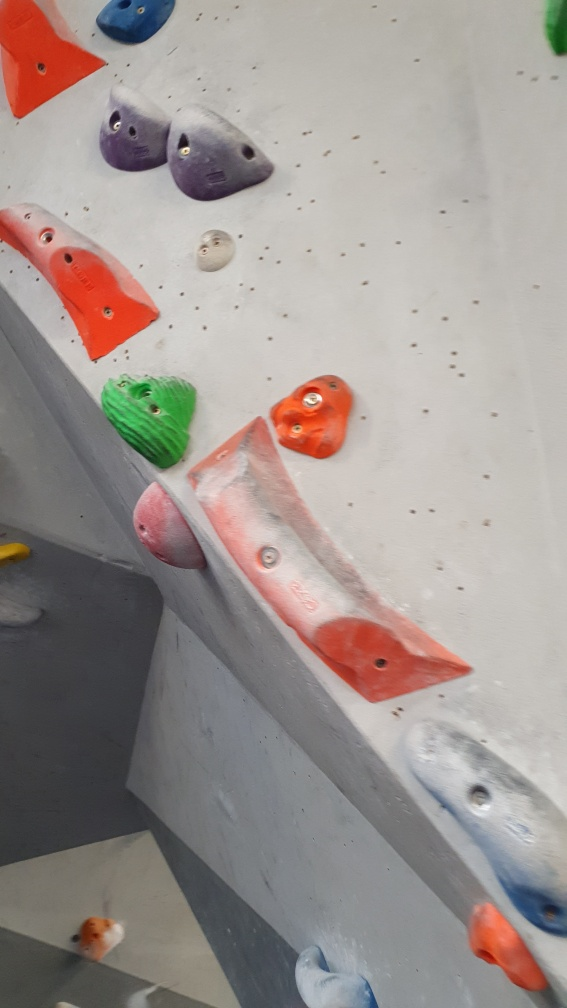Jug: (168, 100, 276, 200), (98, 365, 200, 469), (96, 85, 176, 173), (291, 942, 386, 1008)
Pinch: (185, 415, 472, 705), (406, 714, 567, 937), (1, 198, 162, 360), (1, 1, 108, 126)
Sloper: (129, 475, 211, 573)
